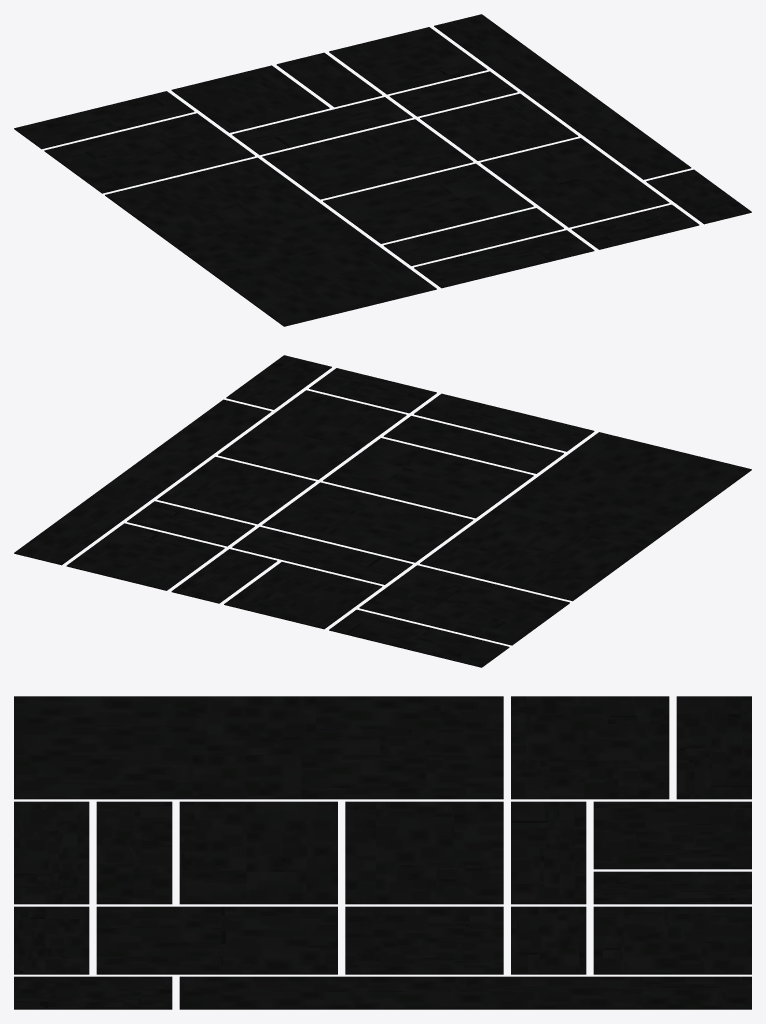
3 views of the same model, one above another, from view 1: azimuth 30°, elevation 25°; view 2: azimuth 150°, elevation 25°; view 3: azimuth 270°, elevation 25° (orthographic). The views are drawn at different scales.
Visible parts, largest first — view 1: Floor_0; view 2: Floor_0; view 3: Floor_0.
Boxes of the visible parts, left/top/right/bottom form: Floor_0: left=14, top=14, right=751, bottom=326; Floor_0: left=14, top=355, right=751, bottom=667; Floor_0: left=14, top=696, right=751, bottom=1009.
Bounding box in the file's own units: 119 × 0.2 × 119.
1 material, 1 textured.
